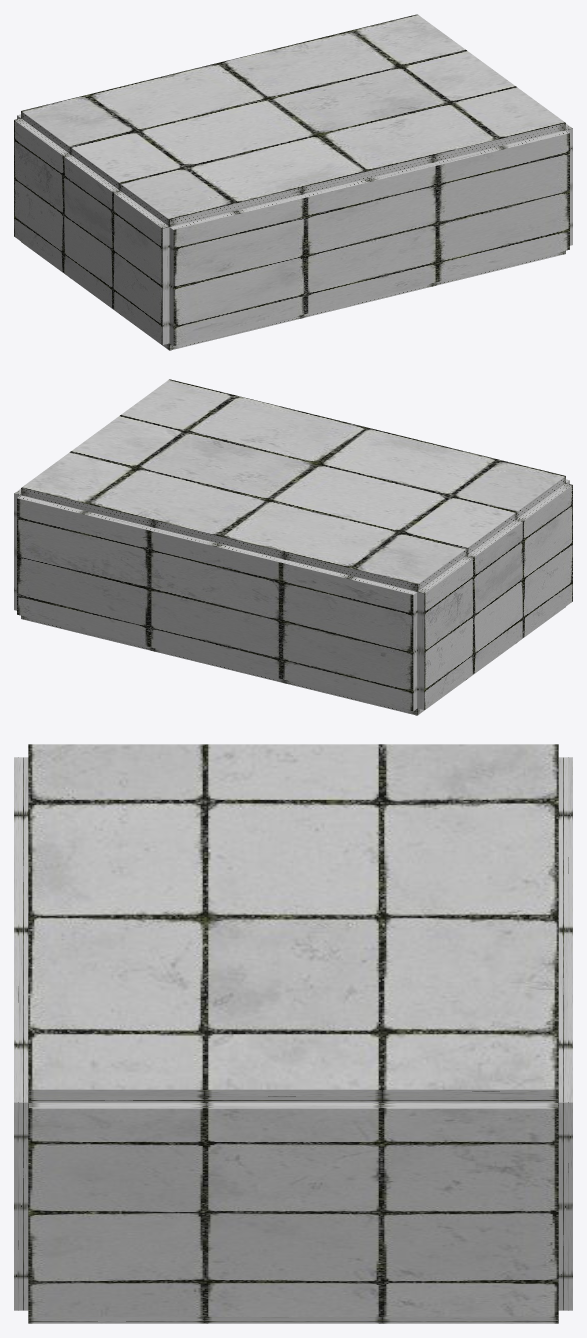
The model's file is nk_arch.obj.
3 views of the same model, one above another, from view 1: azimuth 30°, elevation 25°; view 2: azimuth 150°, elevation 25°; view 3: azimuth 270°, elevation 25° (orthographic). The views are drawn at different scales.
Visible parts, largest first — view 1: Cube.005, Cube.003, Cube.001, Cube; view 2: Cube.005, Cube.004, Cube.001, Cube; view 3: Cube.005, Cube.110, Cube.003, Cube.004, Cube.
Boxes of the visible parts, x1,y1,x2,y2 form: Cube.005: [21, 14, 565, 226]; Cube.003: [169, 130, 569, 346]; Cube.001: [14, 118, 169, 344]; Cube: [21, 242, 565, 350]; Cube.005: [21, 379, 565, 591]; Cube.004: [17, 495, 417, 711]; Cube.001: [417, 483, 572, 709]; Cube: [21, 607, 565, 715]; Cube.005: [28, 744, 558, 1102]; Cube.110: [28, 1102, 558, 1316]; Cube.003: [14, 757, 28, 1310]; Cube.004: [558, 757, 572, 1310]; Cube: [28, 1316, 558, 1323].
Bounding box in the file's own units: 59 × 18 × 39.
Materials: 2 (1 with a texture image).
